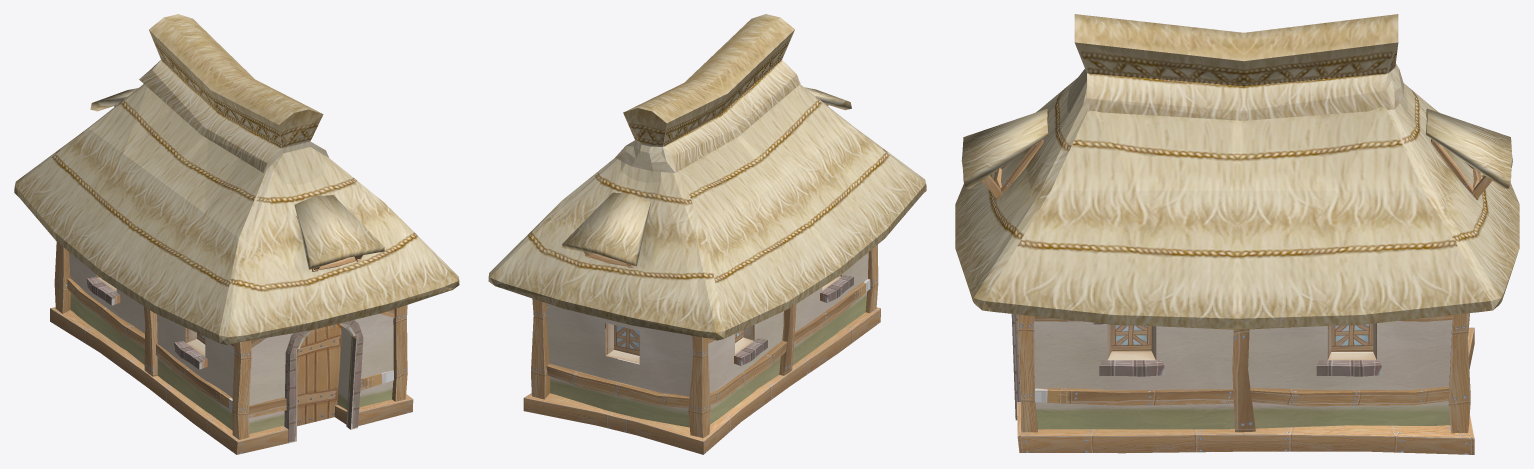
The model's file is Huthouse005.FBX.
The picture shows the model from 3 angles, left to right: view 1: azimuth 30°, elevation 25°; view 2: azimuth 150°, elevation 25°; view 3: azimuth 270°, elevation 25°; orthographic projection. The views are drawn at different scales.
Visible parts, largest first — view 1: n_hut_house_005_k; view 2: n_hut_house_005_k; view 3: n_hut_house_005_k.
Boxes of the visible parts, <box> form: n_hut_house_005_k: <box>14,14,459,454</box>; n_hut_house_005_k: <box>488,14,926,454</box>; n_hut_house_005_k: <box>955,14,1519,454</box>.
Bounding box in the file's own units: 714 × 775 × 1038.
